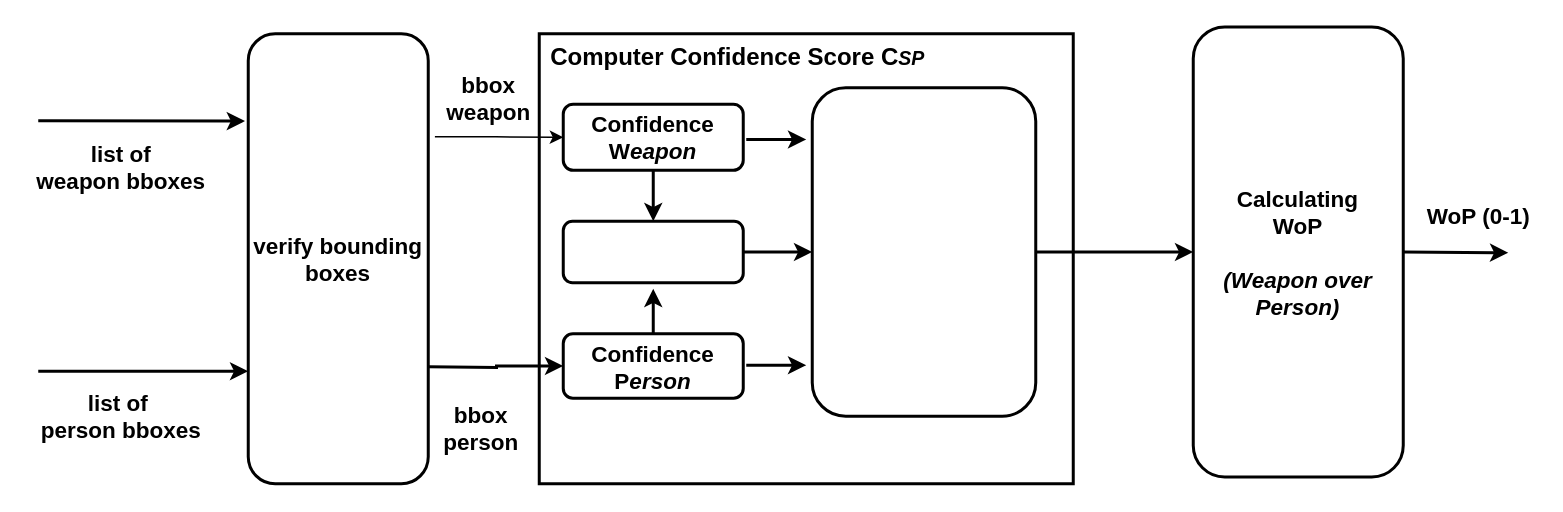
Some shapes in this 1563 by 512 pixel diagram are drawn without their labels. Each missing label, with the centre of its shape:
"Confidnece Score C SP" goes at (923,251).
"max IoW" goes at (652,251).
